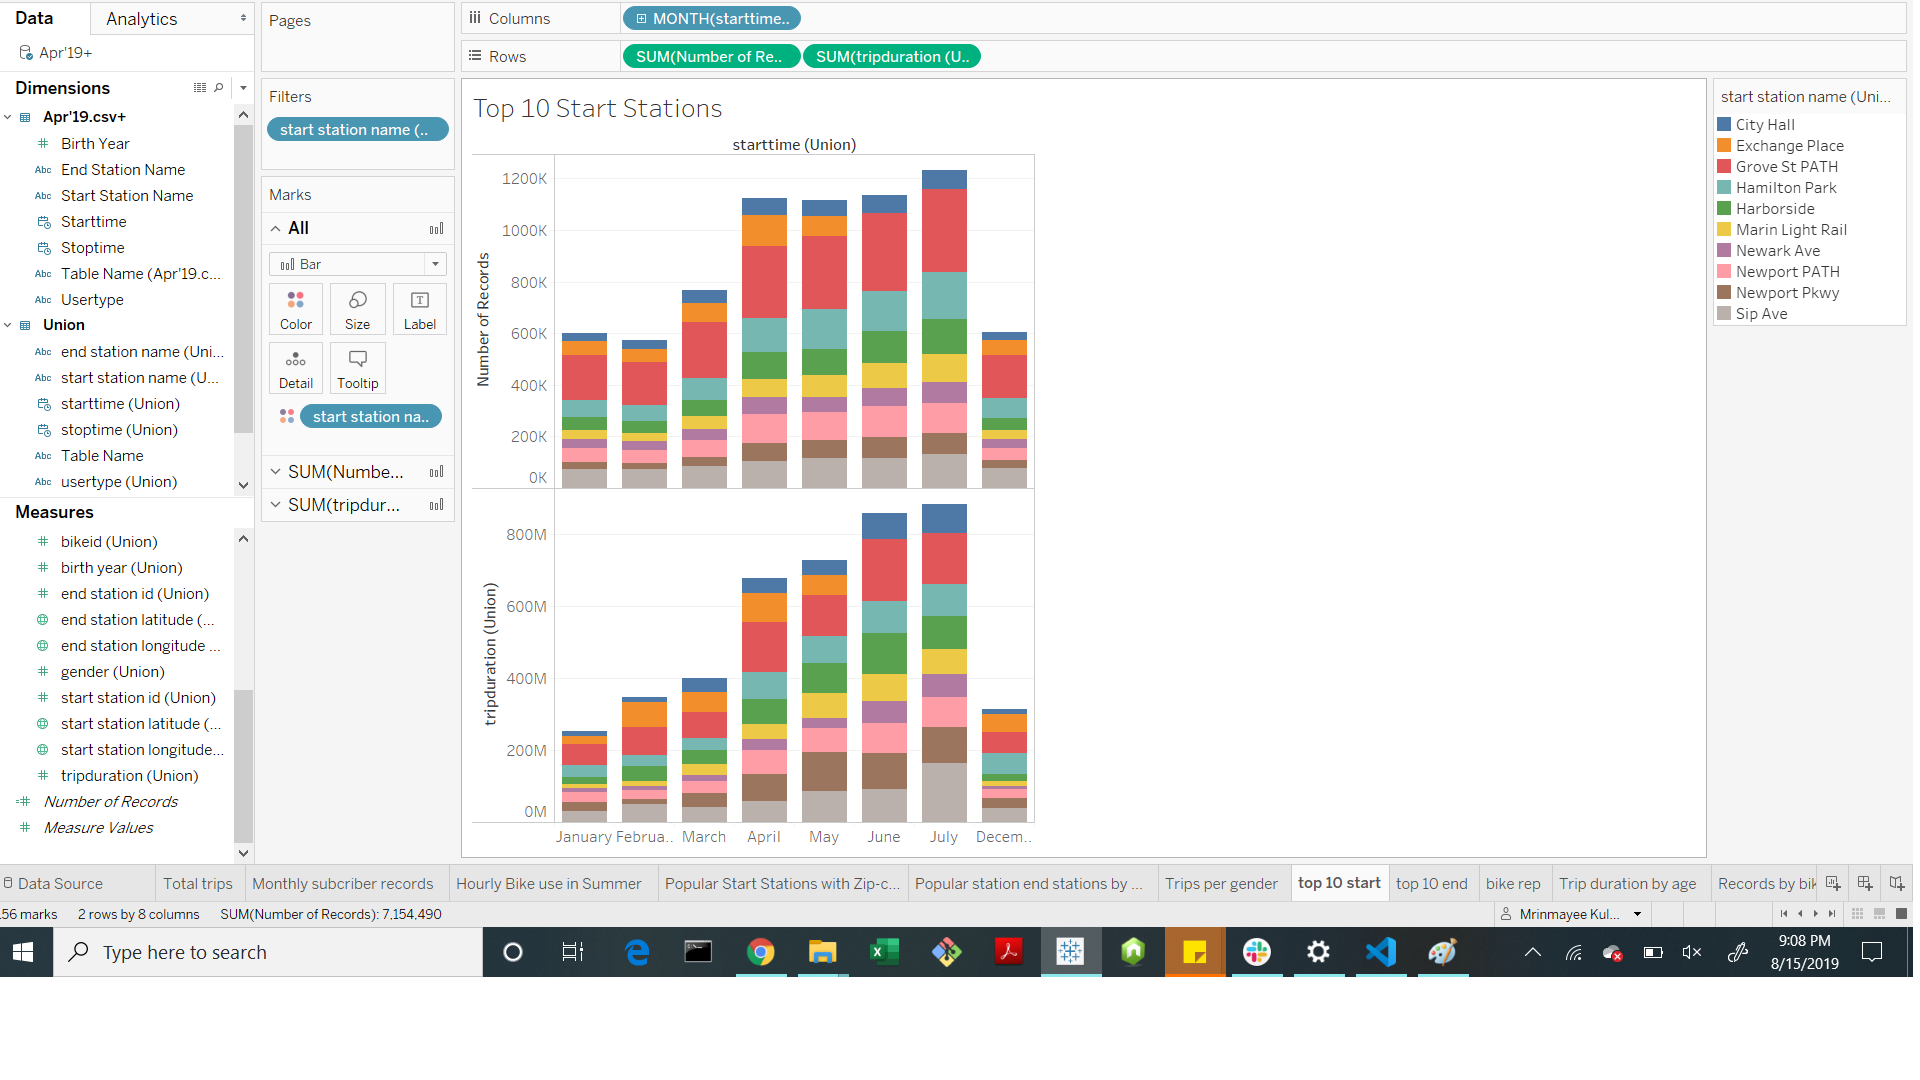

The dashboard page shown, as its layout file describes it:
{"tool":"tableau","page":{"name":"Top 10 stations","canvas":[1000,800],"ordinal":1},"visuals":[{"type":"worksheet","title":"top 10 start","mark":"Bar","rows":["Number of Records","tripduration (Union)"],"cols":["starttime (Union)"],"box":[8,8,824,354.5]},{"type":"legend","title":"top 10 end","param":"[federated.0bjqk4u1wdq1g41czazz71danlju].[none:end station name (Union):nk]","box":[832,8,160,240]},{"type":"worksheet","title":"top 10 end","mark":"Automatic","rows":["end station name (Union)"],"cols":["stoptime (Union)"],"box":[8,362.5,824,354.5]},{"type":"legend","title":"top 10 start","param":"[federated.0bjqk4u1wdq1g41czazz71danlju].[none:start station name (Union):nk]","box":[8,717,824,75]}]}

Visuals, with their boxes on the page's 1000x800 design canvas (x1, y1, x2, y2). These are canvas units, not pixel positions in the 1920x1080 screenshot, which may show the page scaled, cropped or inside an application window:
"top 10 start" worksheet (Bar marks): x1=8, y1=8, x2=832, y2=362
"top 10 end" legend: x1=832, y1=8, x2=992, y2=248
"top 10 end" worksheet: x1=8, y1=362, x2=832, y2=717
"top 10 start" legend: x1=8, y1=717, x2=832, y2=792
